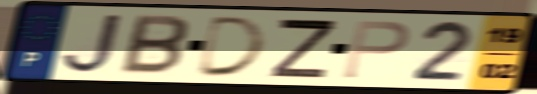2: (410, 18, 475, 86)
B: (117, 13, 193, 77)
D: (193, 14, 269, 78)
J: (58, 11, 127, 75)
P: (339, 18, 412, 81)
Z: (269, 16, 340, 80)
